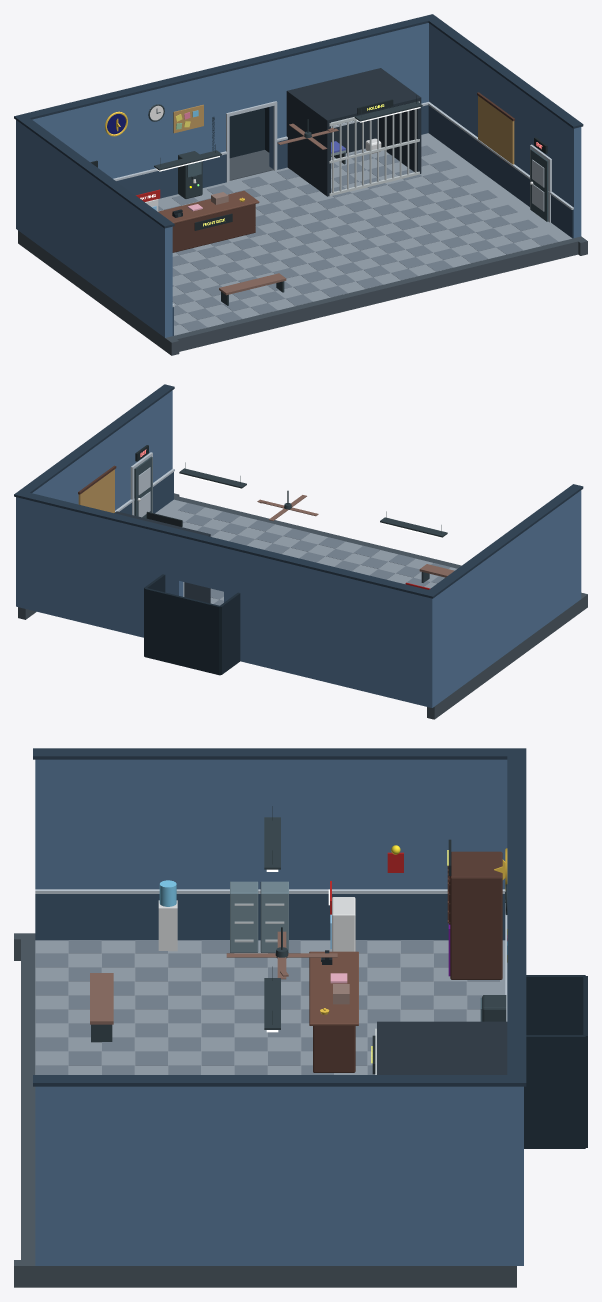
Rendered from interiors_police.glb.
3 views of the same model, one above another, from view 1: azimuth 30°, elevation 25°; view 2: azimuth 150°, elevation 25°; view 3: azimuth 270°, elevation 25° (orthographic). The views are drawn at different scales.
Visible parts, largest first — view 1: InteriorsPolice_static, CellBars; view 2: InteriorsPolice_static; view 3: InteriorsPolice_static, FanBlades.
Part boxes in pixels (x1=…): InteriorsPolice_static: x1=14, y1=14, x2=587, y2=355; CellBars: x1=329, y1=101, x2=419, y2=196; InteriorsPolice_static: x1=14, y1=384, x2=587, y2=719; InteriorsPolice_static: x1=14, y1=748, x2=587, y2=1287; FanBlades: x1=226, y1=931, x2=337, y2=979.
Bounding box in the file's own units: 16.7 × 4.78 × 12.1.
